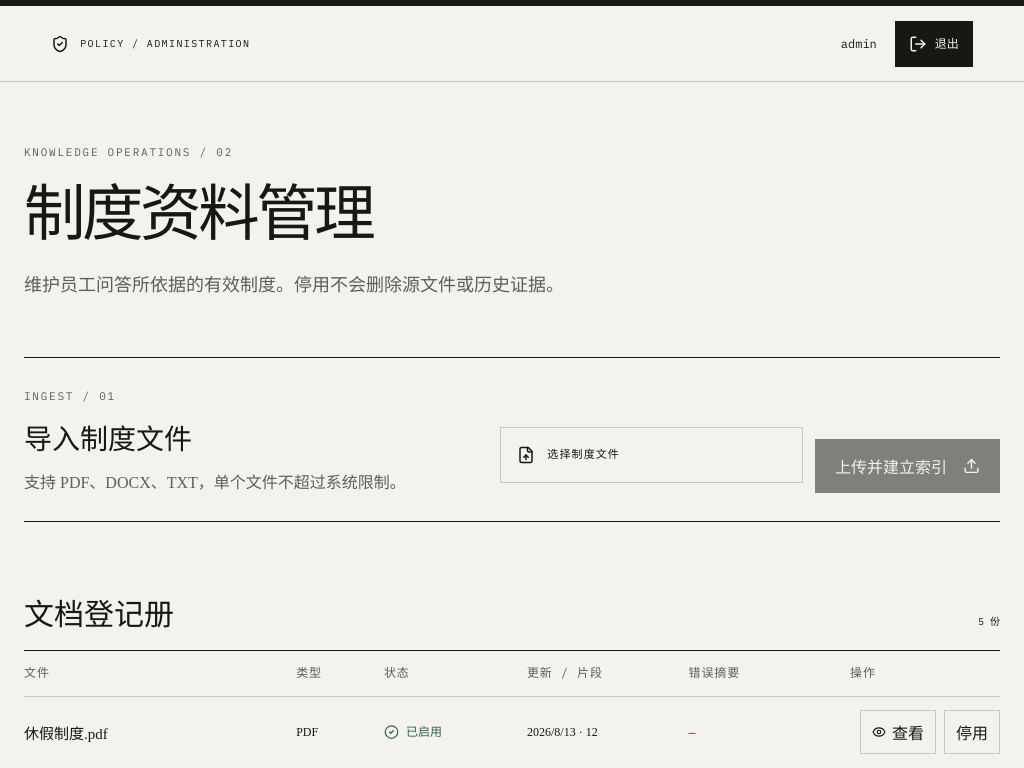
Test: document administration › opens a document detail with original-file actions and parsed chunks
Click the button with aria-label "查看 休假制度.pdf" at point(898, 732), box 860,710 -> 936,754
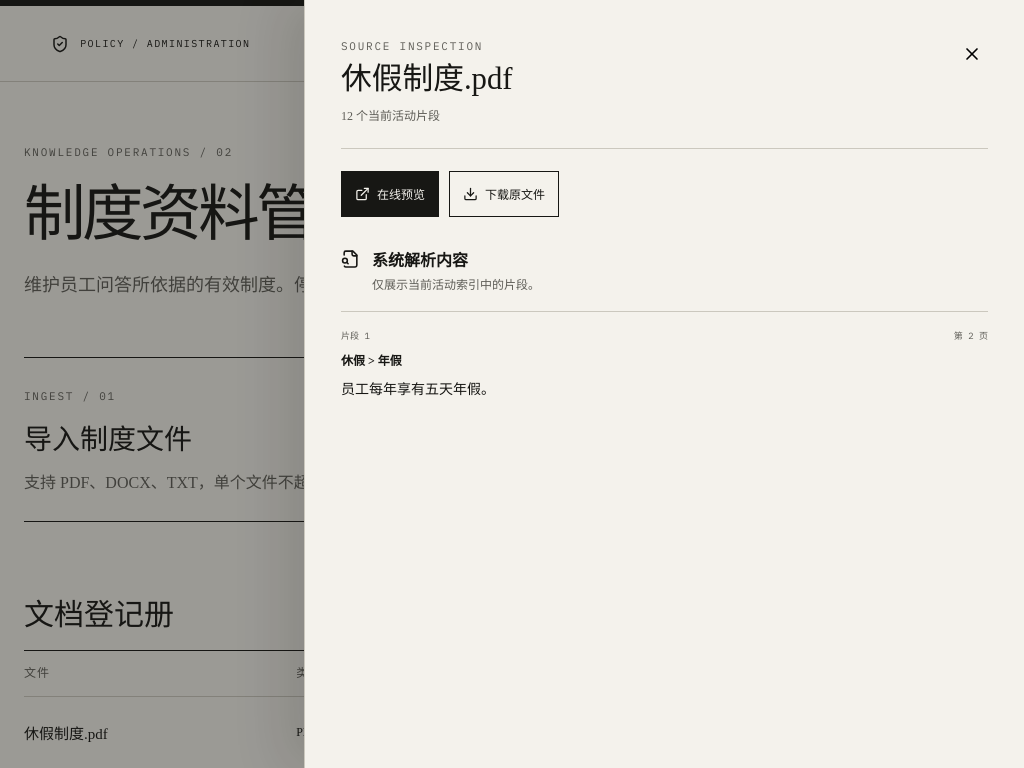
Expected: the dialog "休假制度.pdf" is shown
Expected: the text "休假 > 年假" is shown, 341,354 -> 402,368
Expected: the text "第 2 页" is shown, 954,330 -> 988,342
